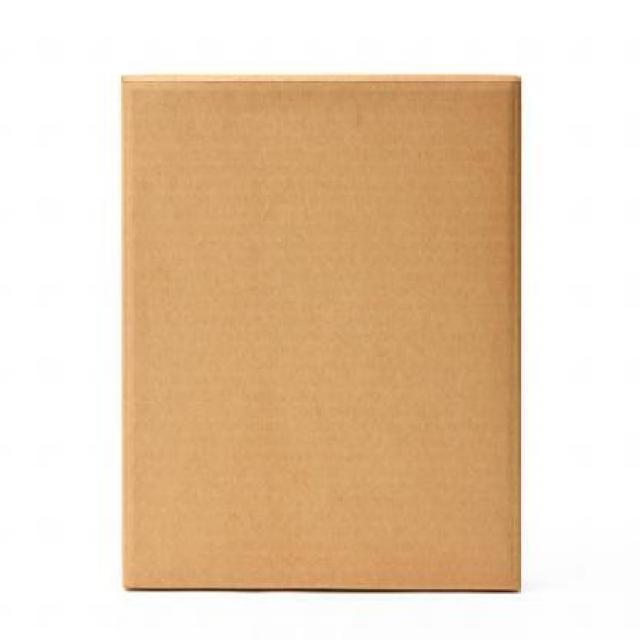box: (113, 70, 524, 592)
